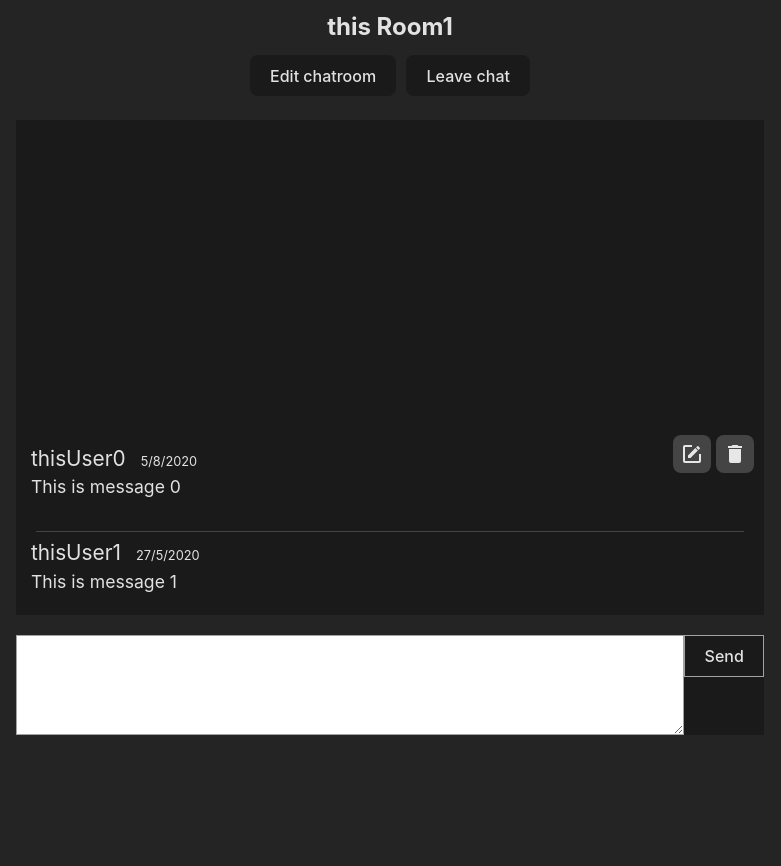
Chatroom gets messages then renders them › edit modal works.
Click the button "Edit chatroom" at (323,76), box top-left (250, 55), bottom-right (396, 96)
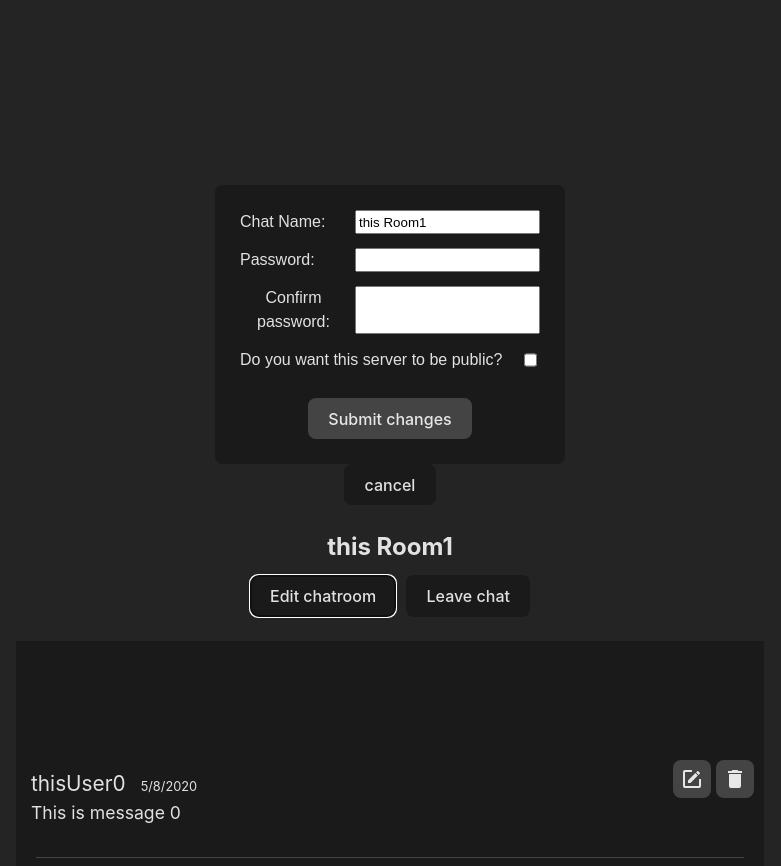
Now the button "cancel" is shown, box top-left (344, 464), bottom-right (436, 505)
